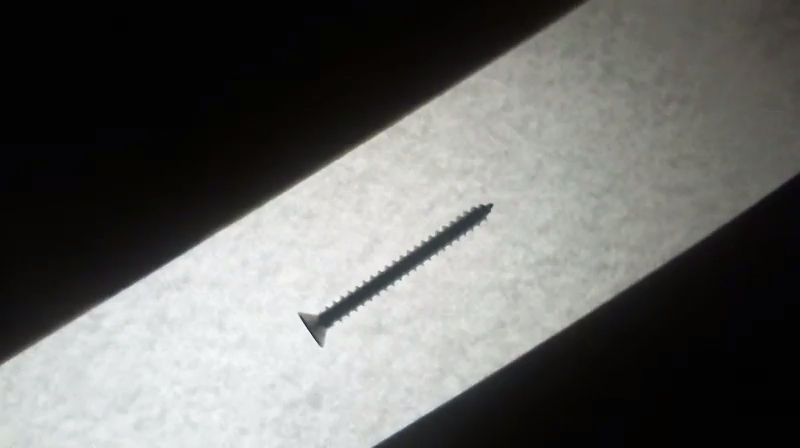S002: (293, 201, 496, 350)
